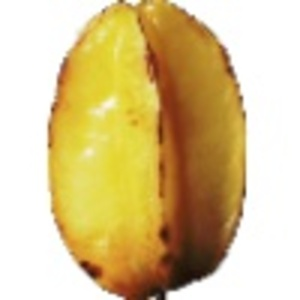carambola: (45, 1, 250, 300)
